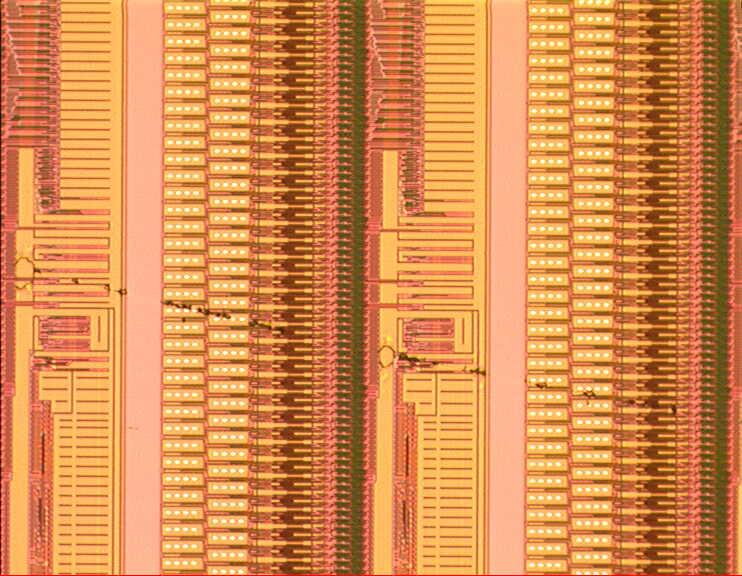SCRATCH: (2, 249, 693, 426)
